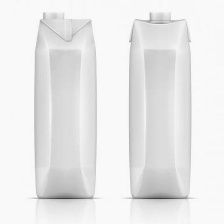carton: (120, 10, 197, 201), (29, 8, 100, 202)
